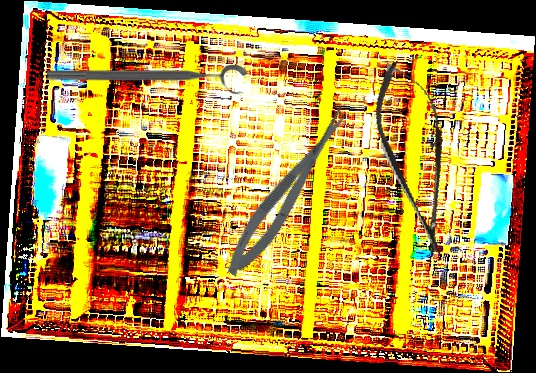Fixation Ring: (47, 65, 247, 96)
Micro Scissor: (216, 101, 362, 283), (364, 55, 468, 262)
